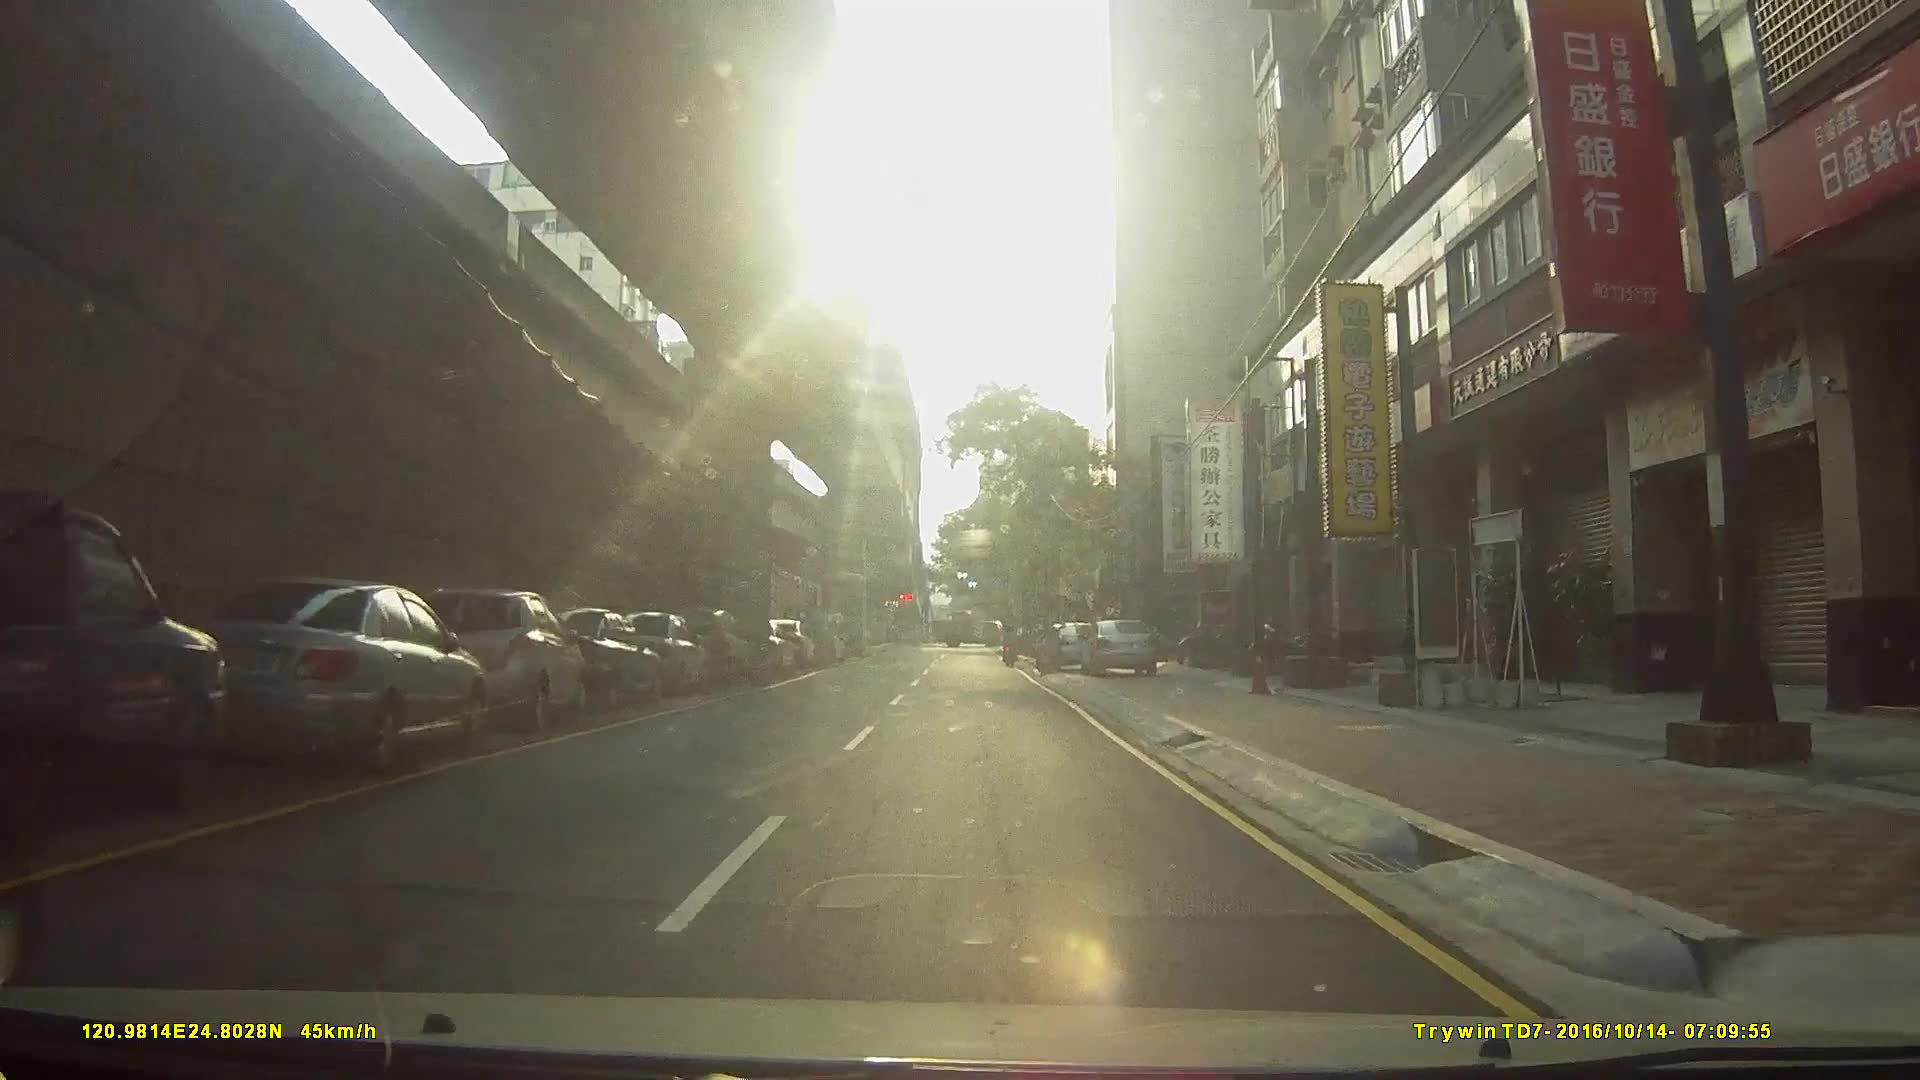vehicle: (1, 505, 233, 851), (144, 575, 480, 789), (390, 585, 583, 738), (525, 607, 659, 713), (616, 612, 709, 696), (667, 607, 752, 692), (1077, 618, 1163, 676), (778, 600, 833, 670), (1033, 622, 1098, 676), (930, 612, 1010, 649)
